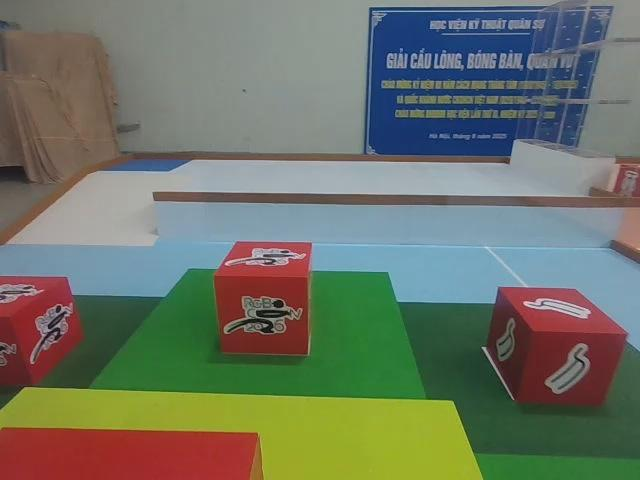R1: (213, 235, 315, 359), (0, 273, 88, 391)
R2 Real: (483, 282, 631, 411)
